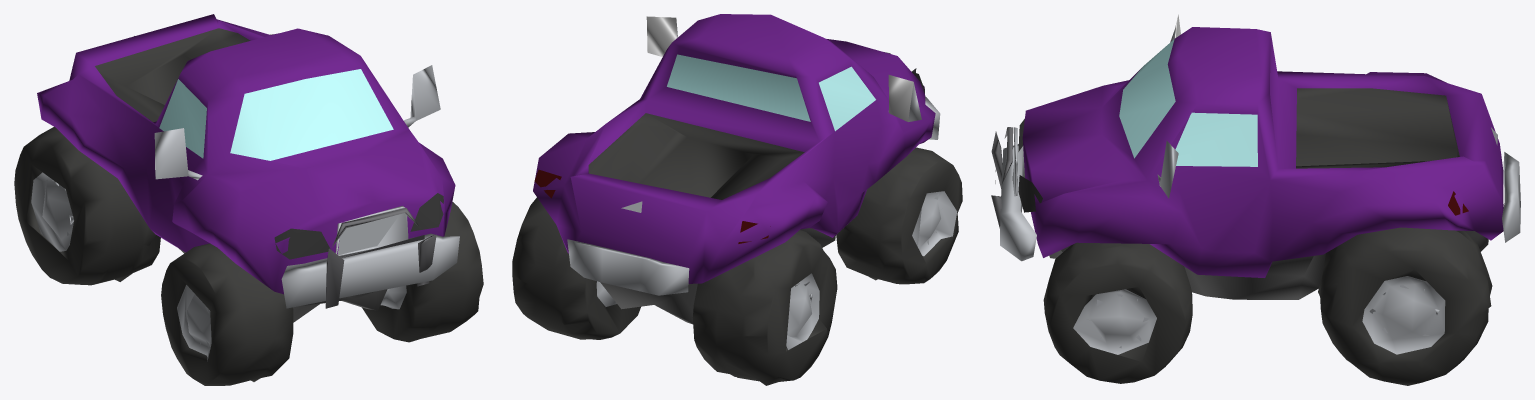
The model's file is pick_up_LOD02.fbx.
3 renders of one model, left to right at view 1: azimuth 30°, elevation 25°; view 2: azimuth 150°, elevation 25°; view 3: azimuth 270°, elevation 25°, orthographic. The views are drawn at different scales.
Parts seen in each view (by area): view 1: pick-up; view 2: pick-up; view 3: pick-up.
Boxes of the visible parts, left/top/right/bottom form: pick-up: left=14, top=14, right=483, bottom=385; pick-up: left=512, top=14, right=962, bottom=385; pick-up: left=991, top=14, right=1520, bottom=385.
Size of the model in its own units: 300 by 272 by 467.
